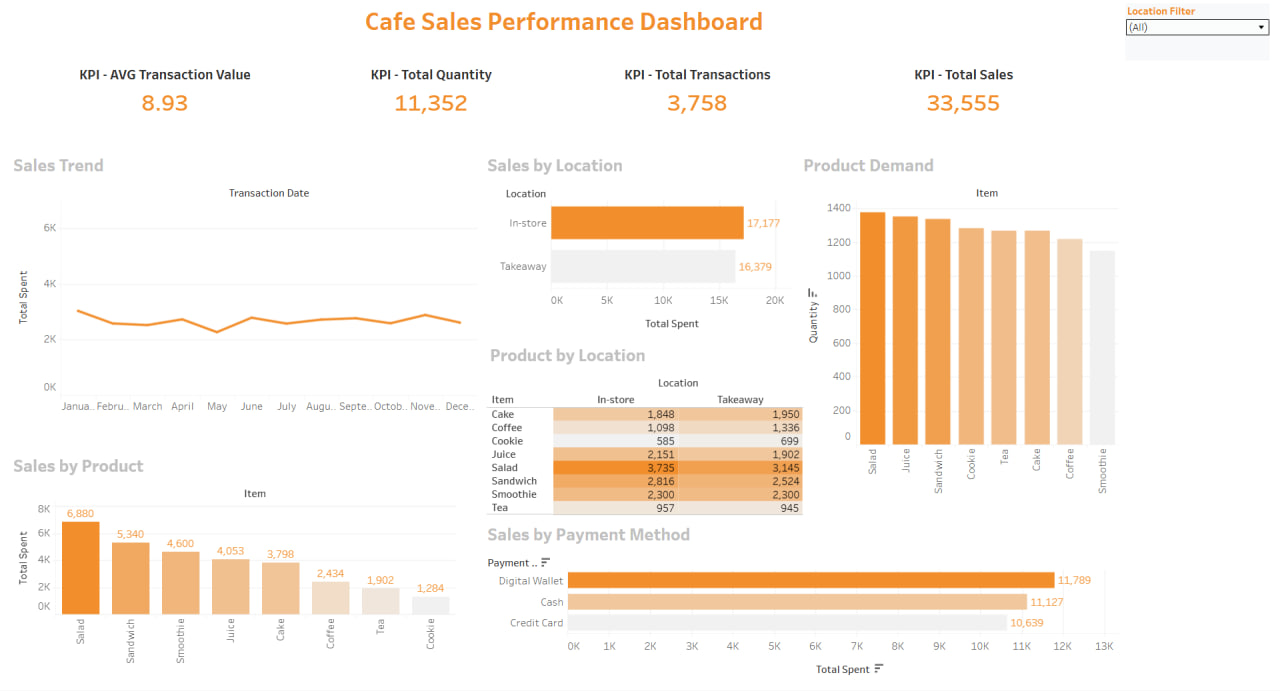

What the dashboard file says about the page in this screenshot:
{"tool":"tableau","page":{"name":"Dashboard 1","canvas":[1000,1000],"units":"permille","ordinal":0},"visuals":[{"type":"title","box":[4.8,9.3,880.5,67.4]},{"type":"filter","title":"Sheet 6","param":"[federated.1dskqjf1y84s2d104faao1twyujn].[Location Set]","box":[885.3,9.3,109.8,122]},{"type":"worksheet","title":"Sheet 8","mark":"Automatic","box":[4.8,76.7,207.6,127.6]},{"type":"worksheet","title":"Sheet 9","mark":"Automatic","box":[212.4,76.7,226.4,127.6]},{"type":"worksheet","title":"Sheet 10","mark":"Automatic","box":[438.8,76.7,207.1,127.6]},{"type":"worksheet","title":"Sheet 11","mark":"Automatic","box":[646,76.7,239.4,127.6]},{"type":"filter","title":"Sheet 5","param":"[federated.1dskqjf1y84s2d104faao1twyujn].[Payment Method Filter]","box":[885.3,131.2,109.8,148.7]},{"type":"worksheet","title":"Sheet 6","mark":"Automatic","rows":["Total_Spent"],"cols":["Transaction_Date"],"box":[4.8,204.2,434,383.4]},{"type":"worksheet","title":"Sheet 4","mark":"Automatic","rows":["Location"],"cols":["Total_Spent"],"box":[438.8,204.2,446.5,383.4]},{"type":"worksheet","title":"Sheet 2","mark":"Automatic","rows":["Item"],"cols":["Total_Spent"],"box":[4.8,587.7,434,403.1]},{"type":"worksheet","title":"Sheet 5","mark":"Automatic","rows":["Payment_Method"],"cols":["Total_Spent"],"box":[438.8,587.7,446.5,403.1]}]}

Visuals, with their boxes on the dashboard's canvas, which has no fixed pixel size, in thousandths of its width and height (x1, y1, x2, y2). These are canvas units, not pixel positions in the 1280x691 screenshot, which may show the page scaled, cropped or inside an application window:
title: rect(5, 9, 885, 77)
"Sheet 6" filter: rect(885, 9, 995, 131)
"Sheet 8" worksheet: rect(5, 77, 212, 204)
"Sheet 9" worksheet: rect(212, 77, 439, 204)
"Sheet 10" worksheet: rect(439, 77, 646, 204)
"Sheet 11" worksheet: rect(646, 77, 885, 204)
"Sheet 5" filter: rect(885, 131, 995, 280)
"Sheet 6" worksheet: rect(5, 204, 439, 588)
"Sheet 4" worksheet: rect(439, 204, 885, 588)
"Sheet 2" worksheet: rect(5, 588, 439, 991)
"Sheet 5" worksheet: rect(439, 588, 885, 991)
